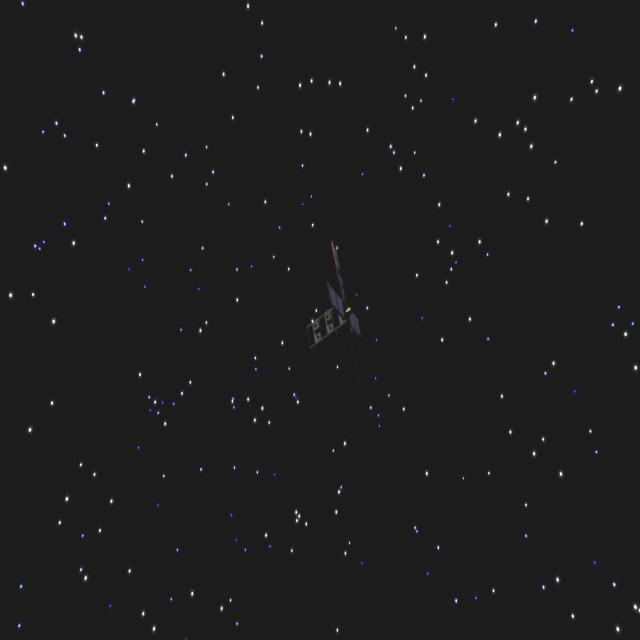medium_debris: (302, 241, 383, 369)
